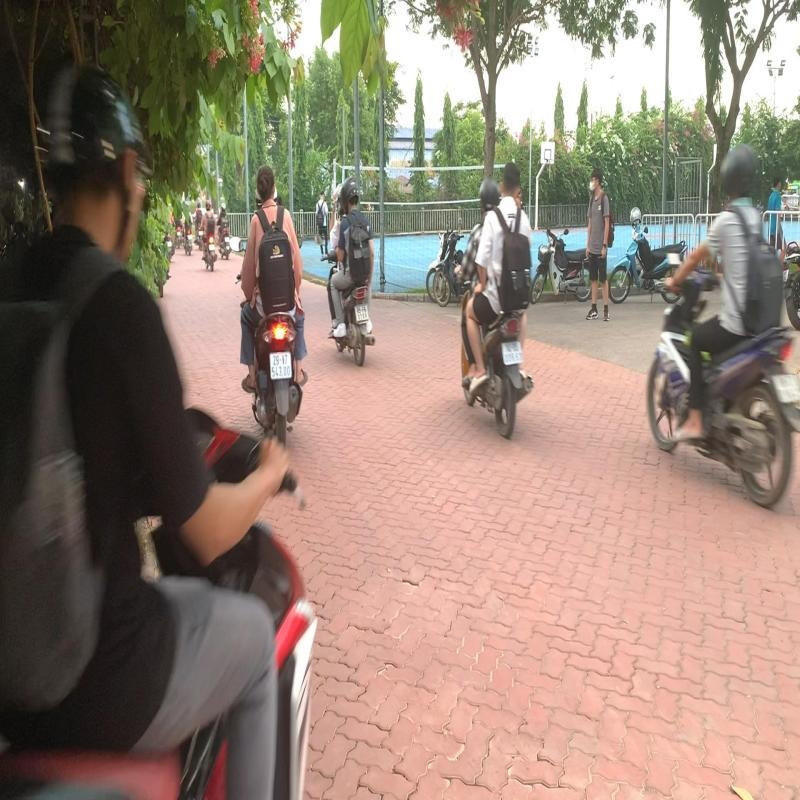nohelmet: (255, 162, 277, 200)
